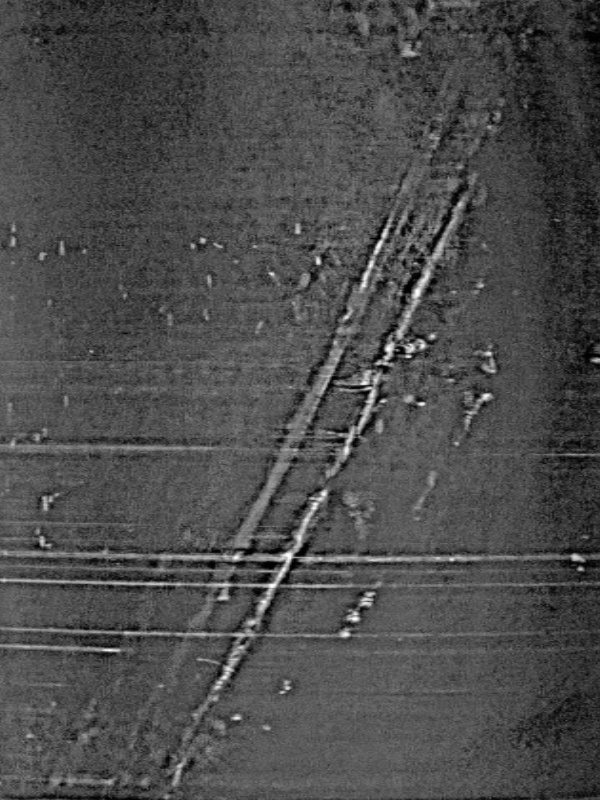splice_vulcanized: (57, 1, 531, 799)
